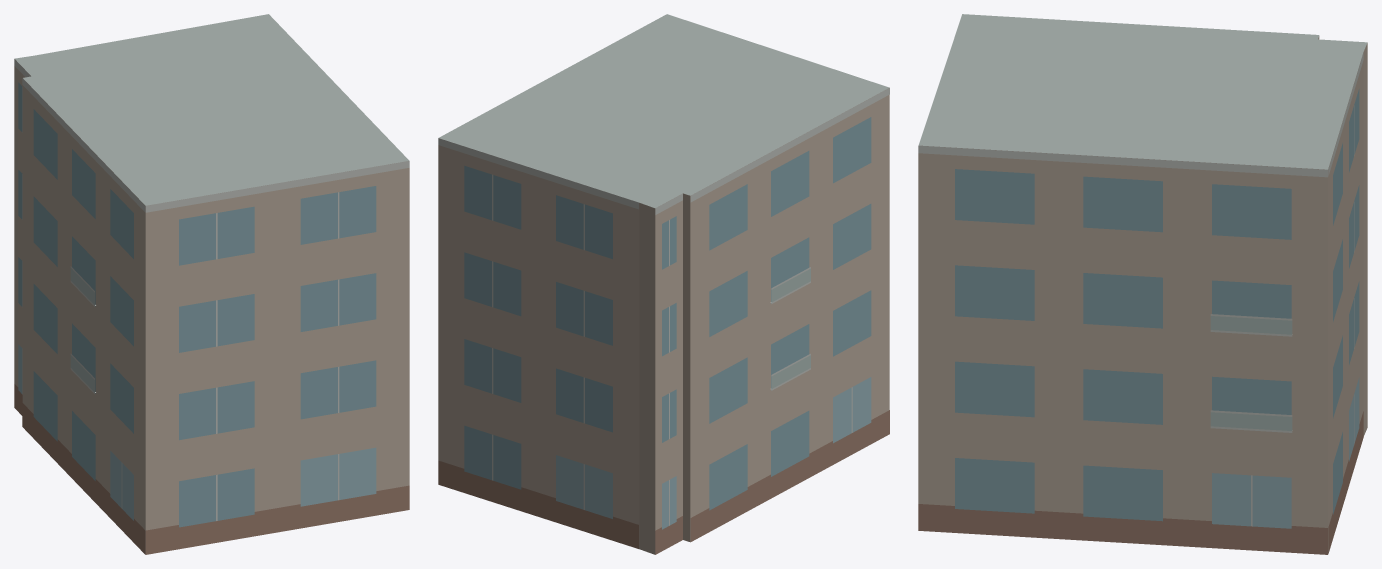
The model's file is survey-upis-32797577.glb.
3 views of the same model, side by side, from view 1: azimuth 30°, elevation 25°; view 2: azimuth 150°, elevation 25°; view 3: azimuth 270°, elevation 25° (orthographic). The views are drawn at different scales.
Visible parts, largest first — view 1: survey-upis-32797577.tmp; view 2: survey-upis-32797577.tmp; view 3: survey-upis-32797577.tmp.
Boxes of the visible parts, <box> form: survey-upis-32797577.tmp: <box>14,14,409,554</box>; survey-upis-32797577.tmp: <box>438,14,889,554</box>; survey-upis-32797577.tmp: <box>918,14,1367,554</box>.
Size of the model in its own units: 10.58 by 12.2 by 12.9.
